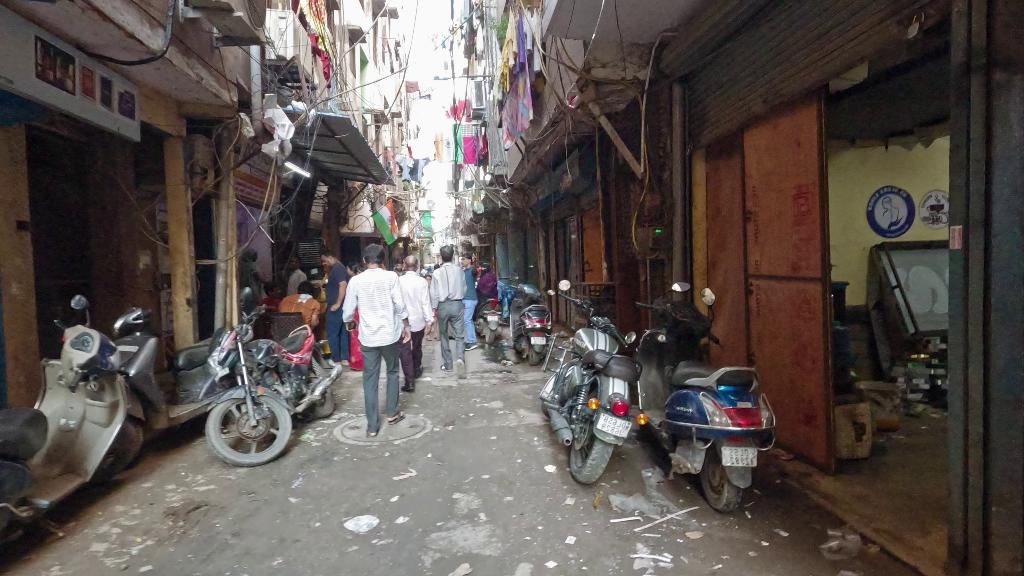garbage: (821, 527, 867, 563), (337, 509, 387, 537)
